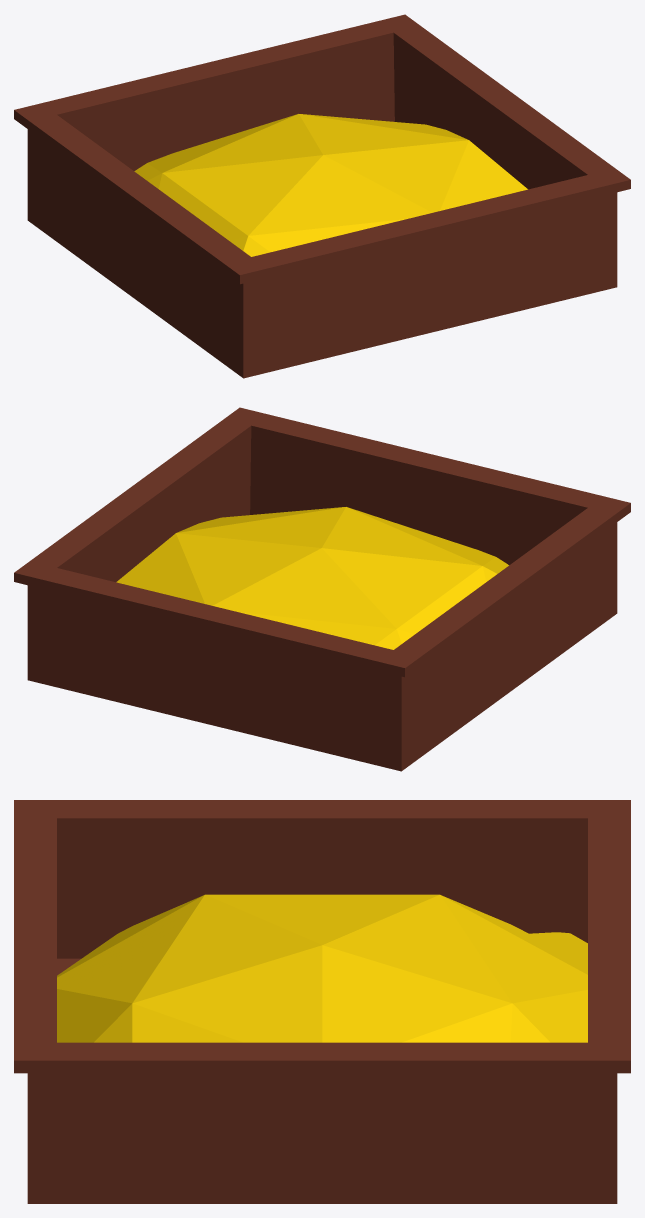
File: Sandkasten_2.fbx
The picture shows the model from 3 angles, top to bottom: view 1: azimuth 30°, elevation 25°; view 2: azimuth 150°, elevation 25°; view 3: azimuth 270°, elevation 25°; orthographic projection. The views are drawn at different scales.
Parts seen in each view (by area): view 1: Cube; view 2: Cube; view 3: Cube.
Boxes of the visible parts, box(x1,y1,x2,y2) form: Cube: box(14, 14, 630, 378); Cube: box(14, 407, 630, 771); Cube: box(14, 800, 630, 1203).
Size of the model in its own units: 366 by 97.54 by 366.
